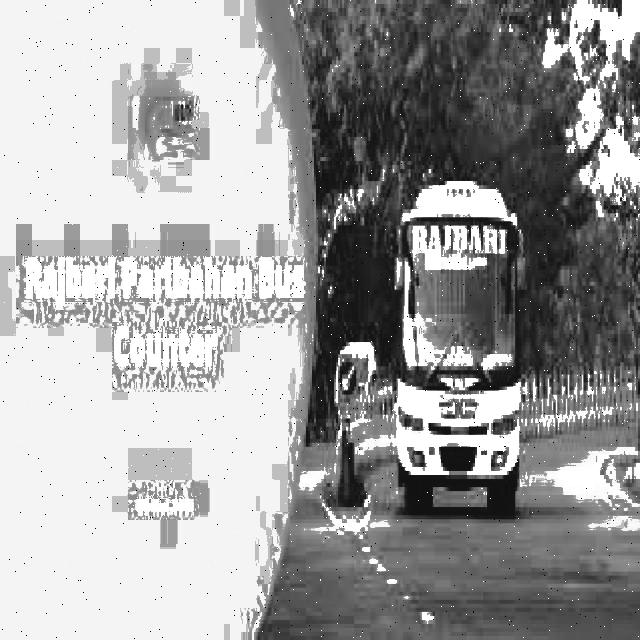Bus: (394, 159, 530, 531)
